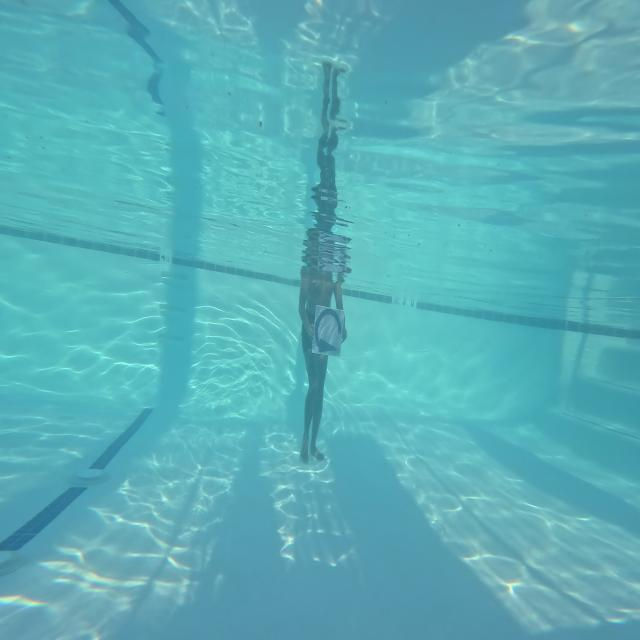blue_side: (311, 301, 344, 358)
